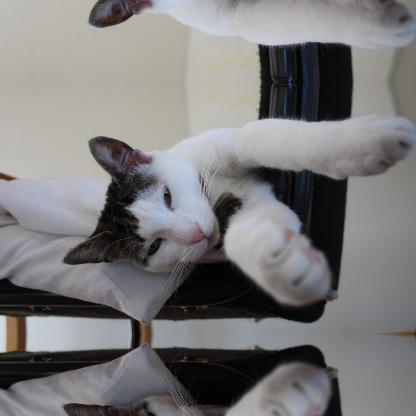Cat: (61, 114, 415, 306), (61, 361, 416, 415), (61, 0, 416, 48)
